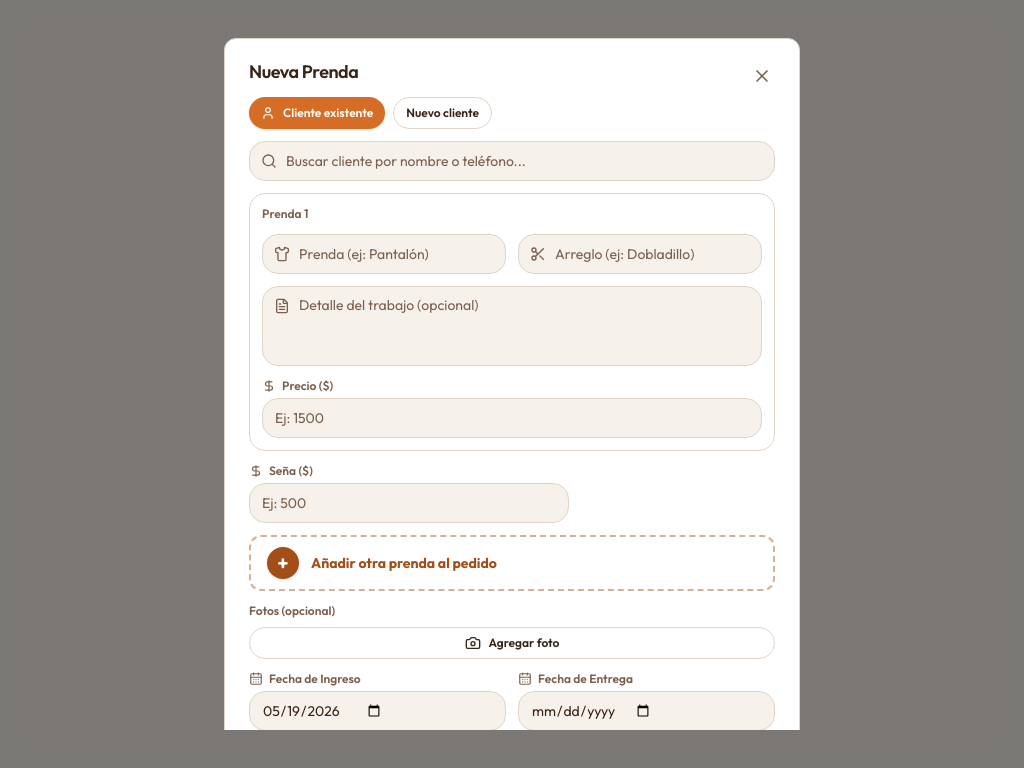
Test: GarmentModal › muestra campos nombre/teléfono en modo "nuevo cliente"
The image size is (1024, 768).
Step 1. Click the button "Nuevo cliente" → (443, 113), box [393,97,492,129]
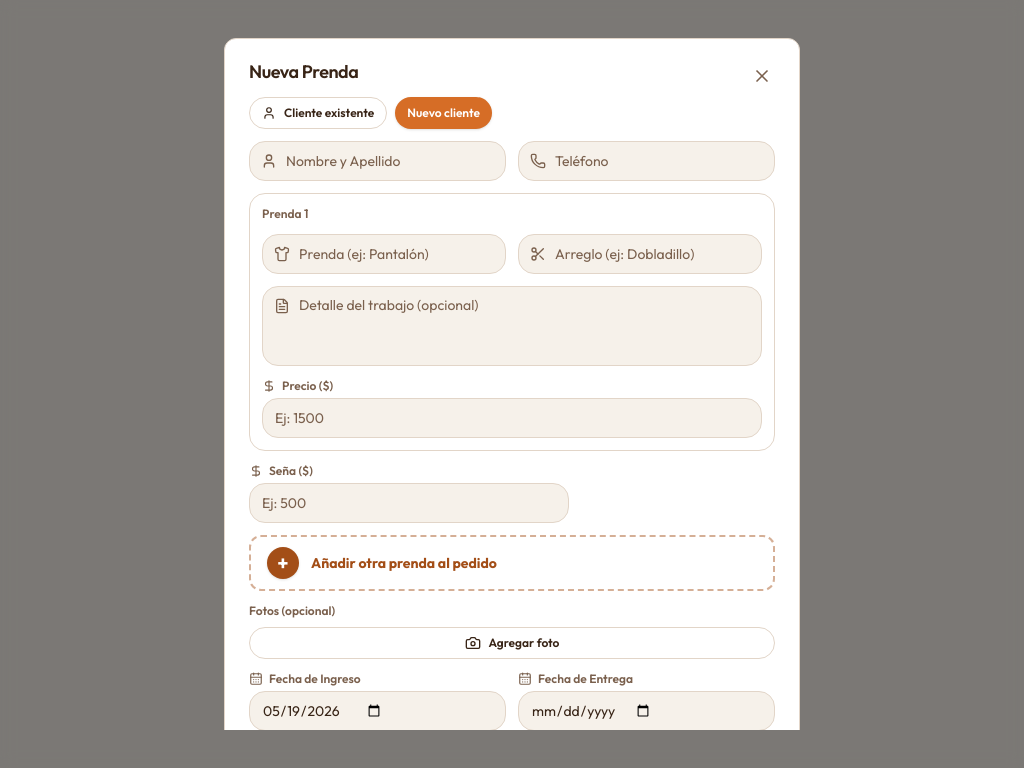
expect the field with placeholder "Nombre y Apellido" is shown: met, box [249,141,506,181]
expect the field with placeholder "Teléfono" is shown: met, box [518,141,775,181]
